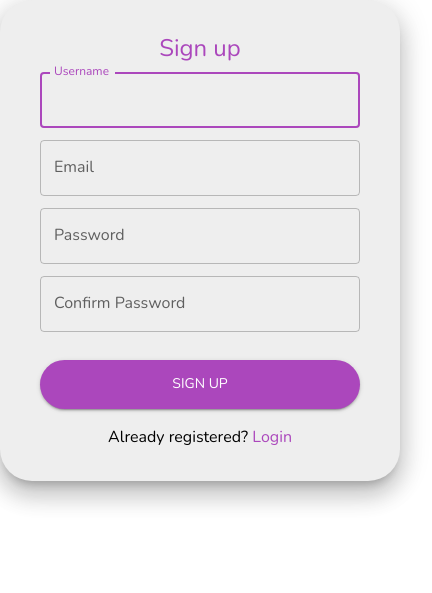
Scenario: Signup form › Show validation errors after submitting an empty form › should render "Name is required"
Click the button "sign up" at (200, 385), box [40, 360, 360, 409]
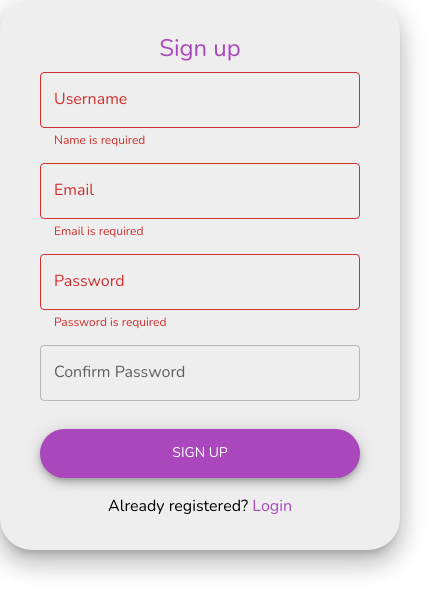
Expected: the text "Name is required" is shown, [54, 132, 145, 148]
